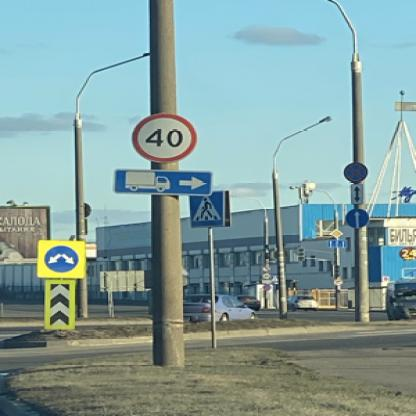crosswalk: (189, 189, 226, 228)
speedlimit: (132, 112, 197, 162)
